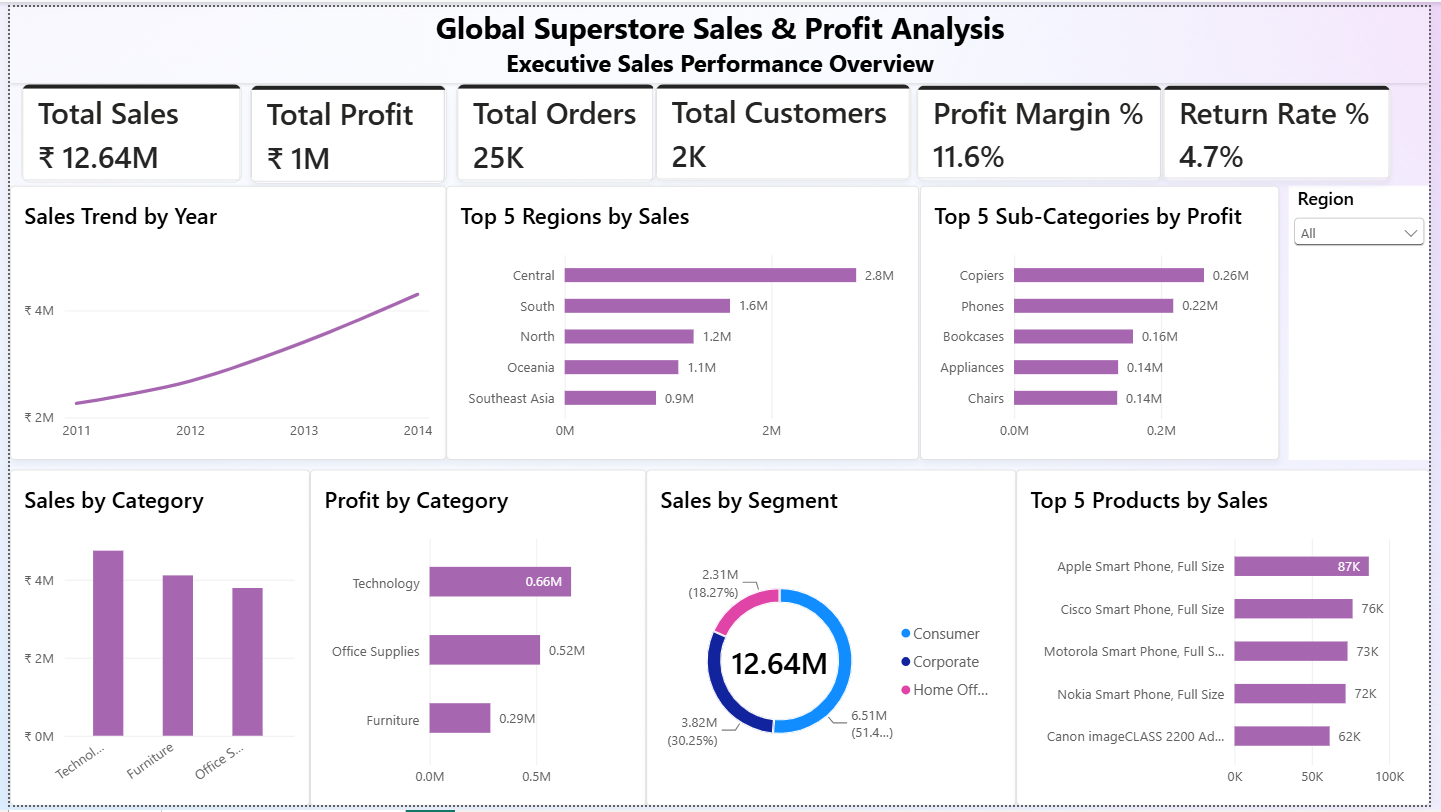

Layout of this report page (visuals, bound fields, positions):
{"tool":"powerbi","page":{"name":"Sales Overview","canvas":[1280,720],"ordinal":0},"visuals":[{"type":"textbox","box":[0,0,1280.3,68.5],"z":0},{"type":"cardVisual","fields":{"Data":["Orders.Total Sales"]},"box":[9.8,68.5,199.3,89.3],"z":1000},{"type":"cardVisual","fields":{"Data":["Orders.Total Profit"]},"box":[216.4,69.7,177.3,89.3],"z":2000},{"type":"cardVisual","fields":{"Data":["Orders.Total Orders"]},"box":[402.3,68.5,179.8,89.3],"z":3000},{"type":"cardVisual","fields":{"Data":["Orders.Total Customers"]},"box":[582.1,68.5,231.1,88],"z":4000},{"type":"cardVisual","fields":{"Data":["Orders.Profit Margin %"]},"box":[816.9,69.7,222.6,86.8],"z":5000},{"type":"lineChart","title":"Sales Trend by Year","fields":{"Category":["Calendar.Year"],"Y":["Orders.Total Sales"]},"box":[0,161.4,393.8,247],"z":6000},{"type":"clusteredColumnChart","title":"Sales by Category","fields":{"Category":["Orders.Category"],"Y":["Orders.Total Sales"]},"box":[0,417,270.2,303.3],"z":7000},{"type":"clusteredBarChart","title":"Profit by Category","fields":{"Category":["Orders.Category"],"Y":["Orders.Total Profit"]},"box":[270.2,417,303.3,303.3],"z":8000},{"type":"slicer","fields":{"Values":["Orders.Region"]},"box":[1153.1,161.4,127.2,247],"z":9000},{"type":"cardVisual","fields":{"Data":["Returned Orders.Return Rate %"]},"box":[1039.4,69.7,206.7,86.8],"z":10000},{"type":"clusteredBarChart","title":"Top 5 Regions by Sales","fields":{"Category":["Orders.Region"],"Y":["Sum(Orders.Sales)"]},"box":[393.8,161.4,426.8,247],"z":11000},{"type":"clusteredBarChart","title":"Top 5 Sub-Categories by Profit","fields":{"Category":["Orders.Sub-Category"],"Y":["Sum(Orders.Profit)"]},"box":[820.5,161.4,324.1,247],"z":12000},{"type":"donutChart","title":"Sales by Segment","fields":{"Category":["Orders.Segment"],"Y":["Sum(Orders.Sales)"]},"box":[573.5,417,333.8,303.3],"z":13000},{"type":"clusteredBarChart","title":"Top 5 Products by Sales","fields":{"Category":["Orders.Product Name"],"Y":["Sum(Orders.Sales)"]},"box":[907.3,417,373,303.3],"z":14000}]}

Visuals, with their boxes in screenshot pixels (x1, y1, x2, y2), scaled from the page's 1280x720 canvas onto the 1441x812 screenshot:
textbox: <bbox>0, 0, 1440, 77</bbox>
cardVisual - Orders.Total Sales: <bbox>11, 77, 235, 178</bbox>
cardVisual - Orders.Total Profit: <bbox>244, 79, 443, 179</bbox>
cardVisual - Orders.Total Orders: <bbox>453, 77, 655, 178</bbox>
cardVisual - Orders.Total Customers: <bbox>655, 77, 915, 176</bbox>
cardVisual - Orders.Profit Margin %: <bbox>920, 79, 1170, 176</bbox>
"Sales Trend by Year" lineChart: <bbox>0, 182, 443, 461</bbox>
"Sales by Category" clusteredColumnChart: <bbox>0, 470, 304, 811</bbox>
"Profit by Category" clusteredBarChart: <bbox>304, 470, 646, 811</bbox>
slicer - Orders.Region: <bbox>1298, 182, 1440, 461</bbox>
cardVisual - Returned Orders.Return Rate %: <bbox>1170, 79, 1403, 176</bbox>
"Top 5 Regions by Sales" clusteredBarChart: <bbox>443, 182, 924, 461</bbox>
"Top 5 Sub-Categories by Profit" clusteredBarChart: <bbox>924, 182, 1289, 461</bbox>
"Sales by Segment" donutChart: <bbox>646, 470, 1021, 811</bbox>
"Top 5 Products by Sales" clusteredBarChart: <bbox>1021, 470, 1440, 811</bbox>
